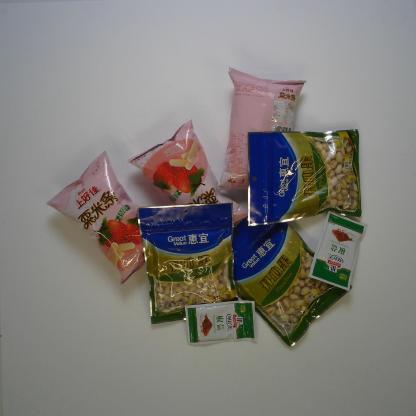Dried Fruit: (232, 210, 353, 351), (134, 200, 241, 328), (246, 128, 364, 231)
Puffed Food: (41, 149, 144, 289), (123, 119, 248, 228), (214, 64, 308, 190)
Seasoner: (307, 209, 369, 293), (182, 297, 256, 348)
